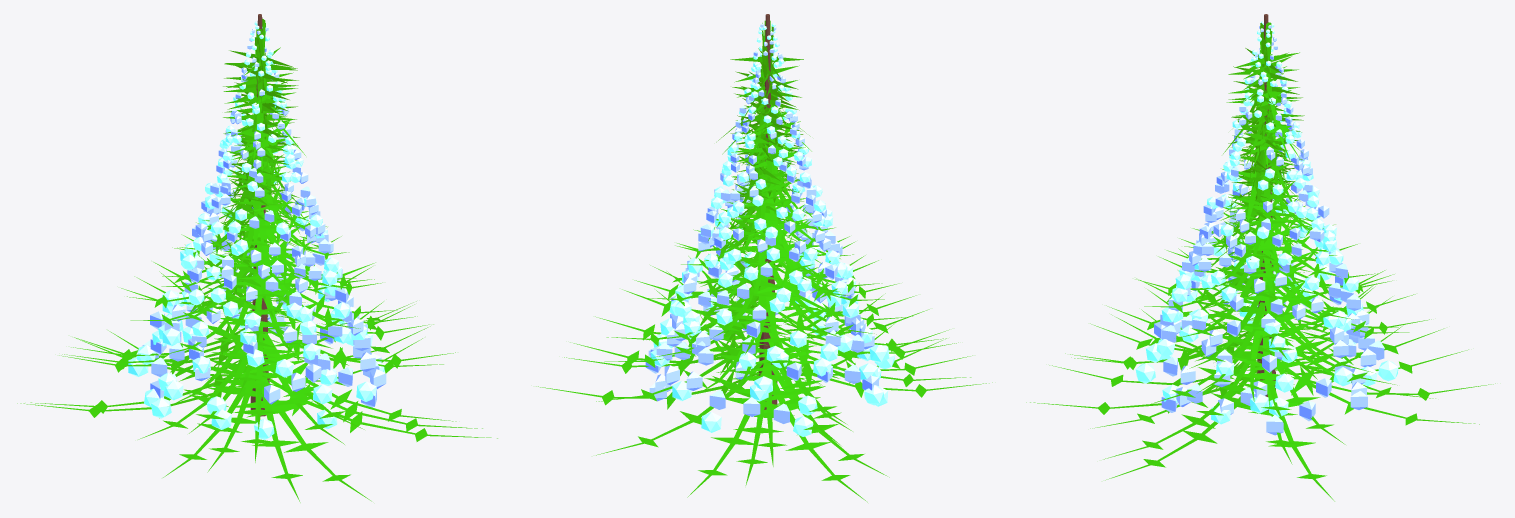
The model's file is sapin_de_noel.glb.
3 renders of one model, left to right at view 1: azimuth 30°, elevation 25°; view 2: azimuth 150°, elevation 25°; view 3: azimuth 270°, elevation 25°, orthographic.
Parts seen in each view (by area): view 1: Cylinder_0; view 2: Cylinder_0, Cylinder.001_1; view 3: Cylinder_0.
Part boxes in pixels (box(x1,y1,x2,y2)): Cylinder_0: box(17, 18, 497, 502); Cylinder_0: box(536, 20, 992, 502); Cylinder.001_1: box(758, 14, 777, 409); Cylinder_0: box(1026, 21, 1495, 501).
Bounding box in the file's own units: 11.29 × 11.35 × 12.3.
